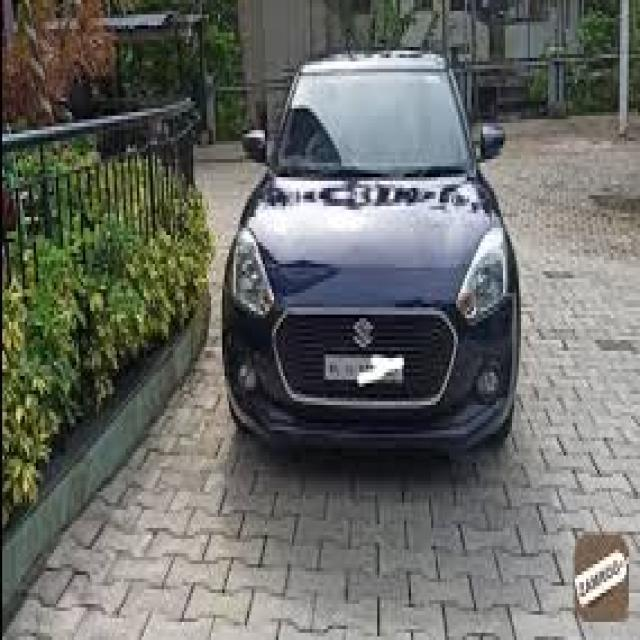cars: (215, 21, 527, 492)
